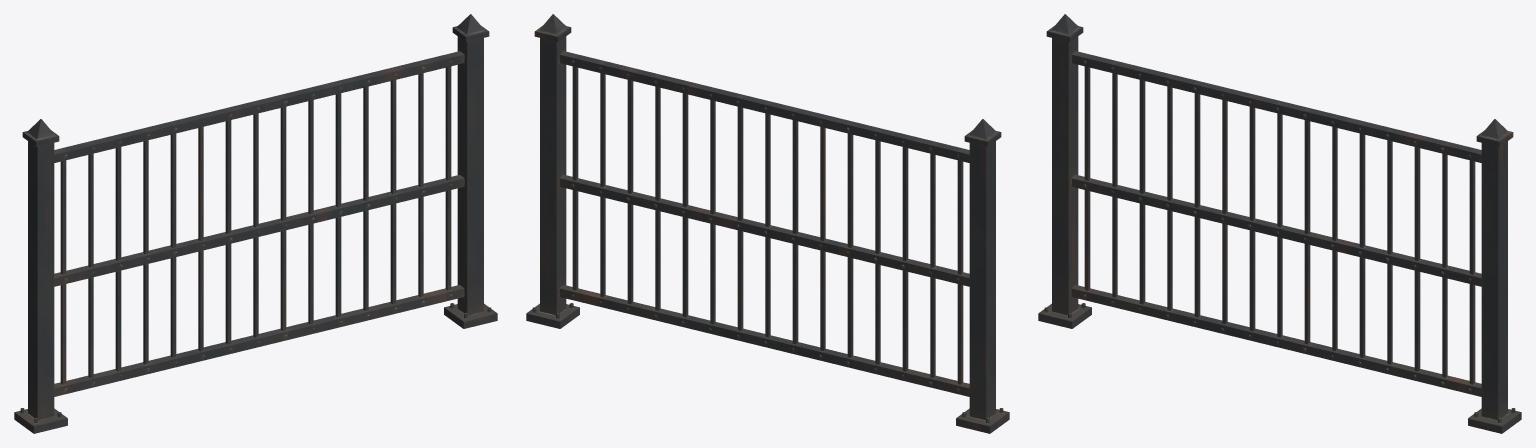
Rendered from railing.glb.
The picture shows the model from 3 angles, left to right: view 1: azimuth 30°, elevation 25°; view 2: azimuth 150°, elevation 25°; view 3: azimuth 330°, elevation 25°; orthographic projection.
Parts seen in each view (by area): view 1: metal-fence_body; view 2: metal-fence_body; view 3: metal-fence_body.
Boxes of the visible parts, x1=… form: metal-fence_body: x1=14, y1=14, x2=497, y2=433; metal-fence_body: x1=526, y1=14, x2=1009, y2=433; metal-fence_body: x1=1038, y1=14, x2=1521, y2=433.
Bounding box in the file's own units: 2.16 × 1.35 × 0.1591.
Materials: 1 (1 with a texture image).
